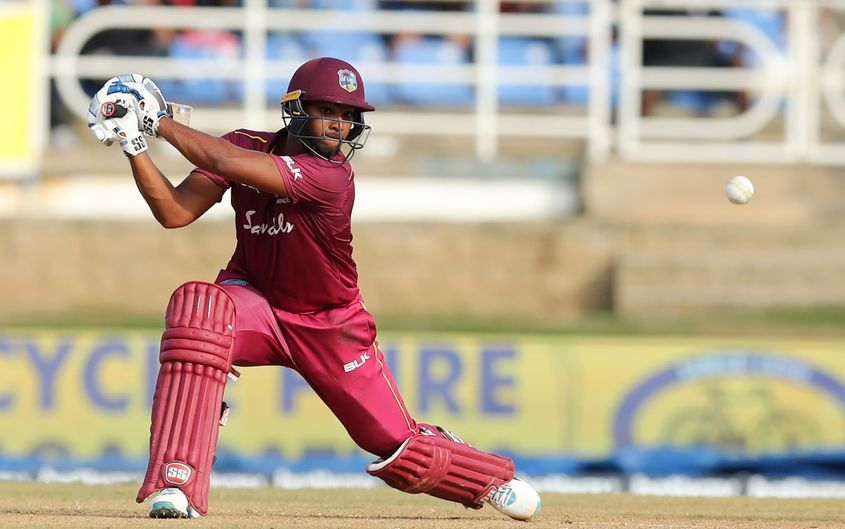Hip: (232, 268, 359, 352)
LeftElbow: (223, 122, 264, 196)
RightElbow: (146, 172, 192, 248)
Torso: (247, 203, 322, 306)
